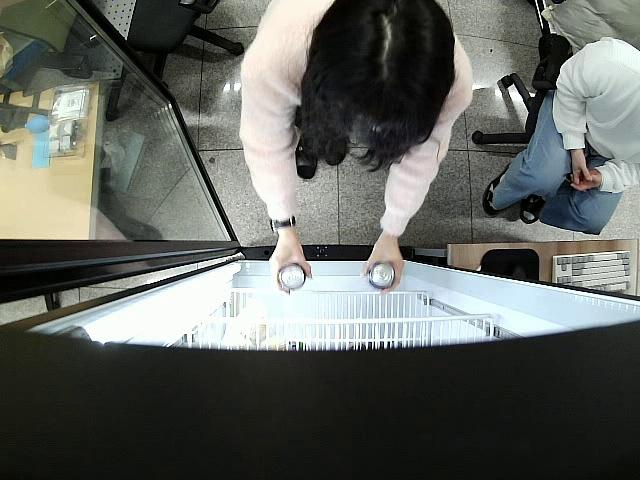00_hand: (270, 237, 314, 295), (361, 237, 405, 295)
14_welchsGrape: (365, 261, 397, 291), (277, 263, 307, 292)
